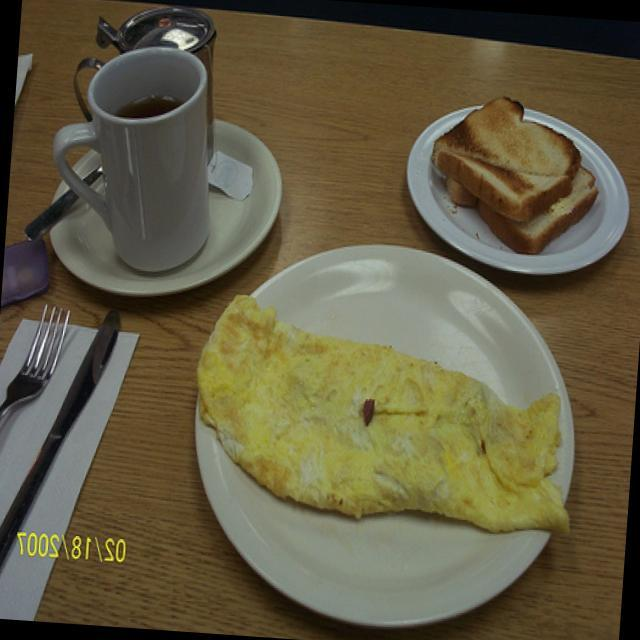Omelet: (184, 288, 583, 541)
